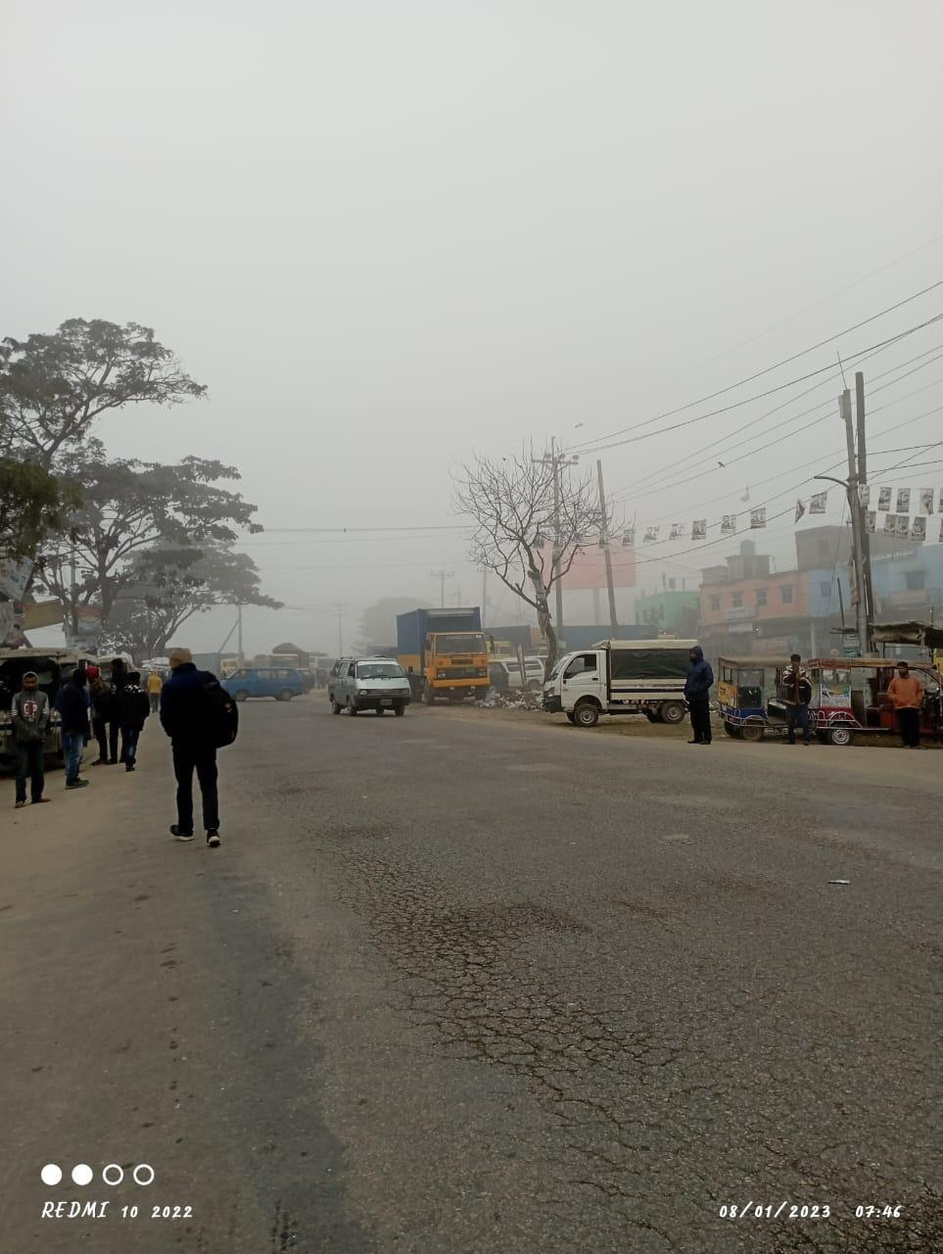Car: (805, 647, 943, 755), (541, 636, 705, 725), (318, 653, 417, 721), (213, 651, 315, 705)
Truck: (393, 603, 501, 698)
